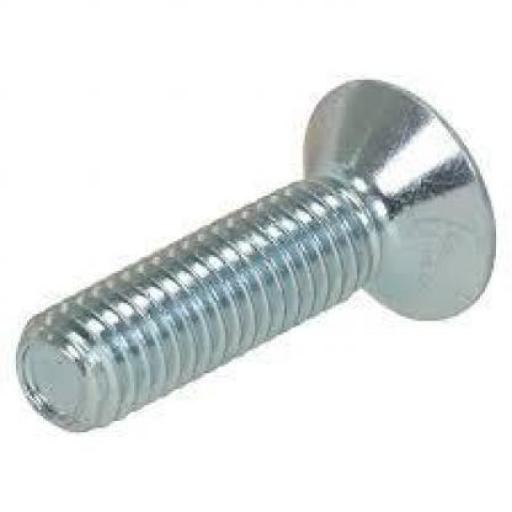bolt: (16, 79, 497, 434)
